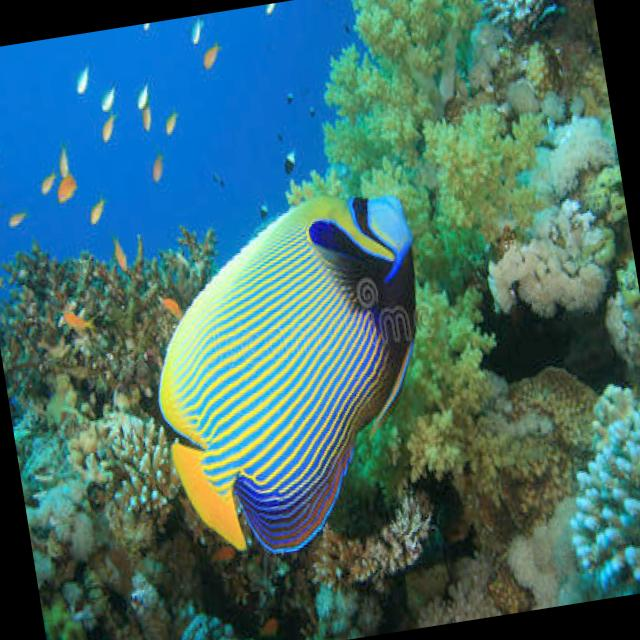AngelFish: (136, 190, 460, 567)
